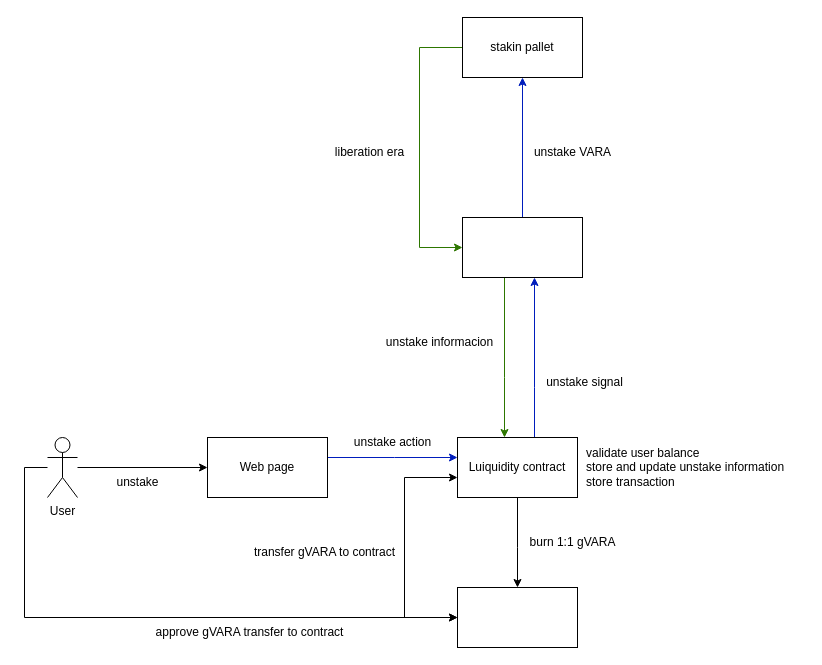
Image size: 822x665. Some labels were removed from this diagram. The shapes that lost their labels are listed below. From the top down, each one's box as (x1, y1, x2, y2) in pixels, then its label:
(462, 216, 582, 278): off-chain server
(456, 586, 578, 648): FT contract
